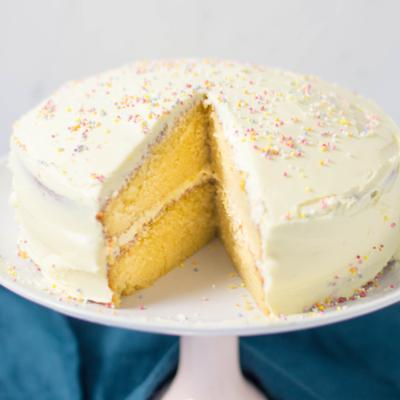cake: (5, 55, 398, 311)
